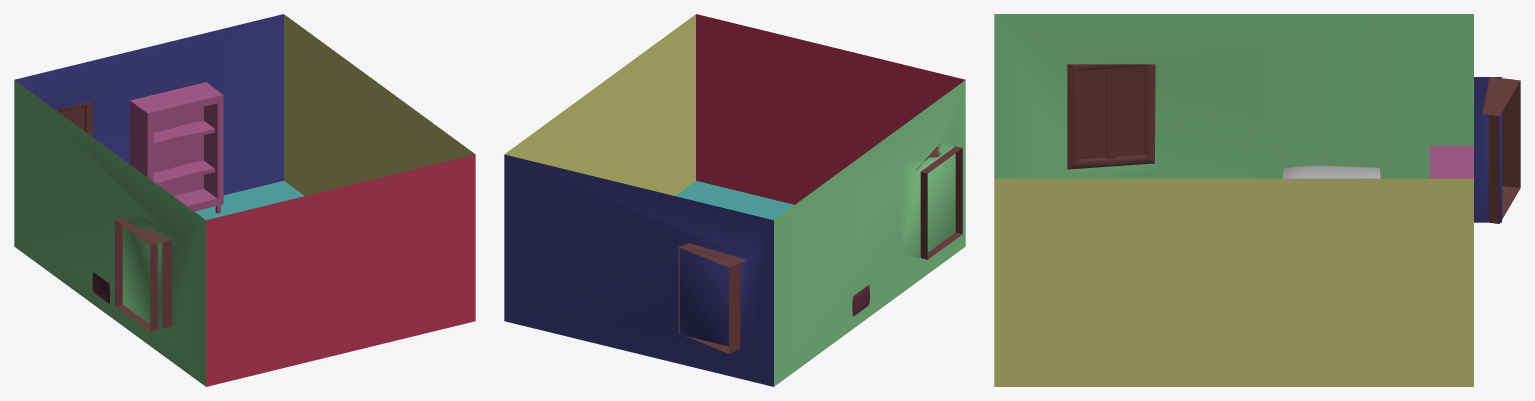
Rendered from pieza 2.fbx.
The picture shows the model from 3 angles, left to right: view 1: azimuth 30°, elevation 25°; view 2: azimuth 150°, elevation 25°; view 3: azimuth 270°, elevation 25°; orthographic projection. The views are drawn at different scales.
Parts seen in each view (by area): view 1: Muro_Izquierda, Muro_frontal1, polySurface18, muro_trasero, estante1, ventana_1, Piso, ventana2; view 2: polySurface18, Muro_Izquierda, Muro_frontal1, muro_trasero, Piso, ventana2, ventana_1; view 3: muro_trasero, Muro_frontal1, ventana_1, ventana2, polySurface18, estante1, cama.
Boxes of the visible parts, x1,y1,x2,y2 form: Muro_Izquierda: (206,154,475,386); Muro_frontal1: (14,80,205,386); polySurface18: (14,14,283,195); muro_trasero: (284,14,475,195); estante1: (130,82,223,213); ventana_1: (115,217,172,331); Piso: (194,181,304,219); ventana2: (56,101,92,136); polySurface18: (504,154,773,386); Muro_Izquierda: (696,14,965,204); Muro_frontal1: (774,80,965,386); muro_trasero: (504,14,695,195); Piso: (675,181,794,219); ventana2: (678,243,745,353); ventana_1: (916,143,962,259); muro_trasero: (994,178,1473,386); Muro_frontal1: (994,14,1473,178); ventana_1: (1067,64,1154,169); ventana2: (1482,77,1520,223); polySurface18: (1474,77,1501,222); estante1: (1429,145,1473,178); cama: (1282,165,1381,178).
Bounding box in the file's own units: 6.35 × 7.82 × 3.44.
